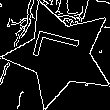L_E: (30, 32, 89, 76)
